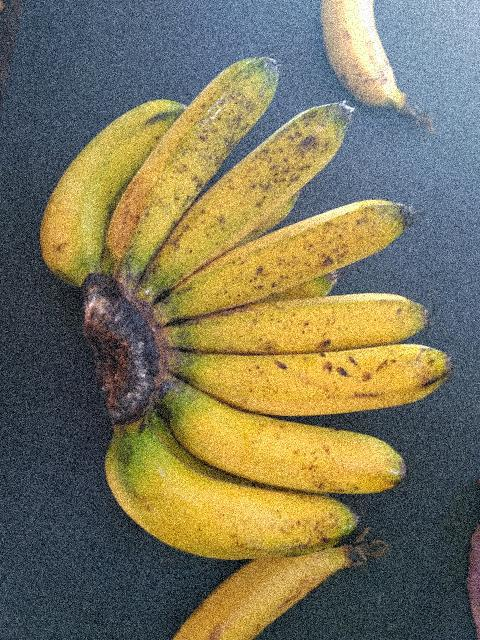ripe: (127, 50, 283, 274), (151, 96, 350, 265), (107, 443, 363, 573), (159, 389, 421, 498), (174, 197, 410, 316), (160, 286, 451, 369), (46, 96, 172, 273), (175, 347, 446, 422)
